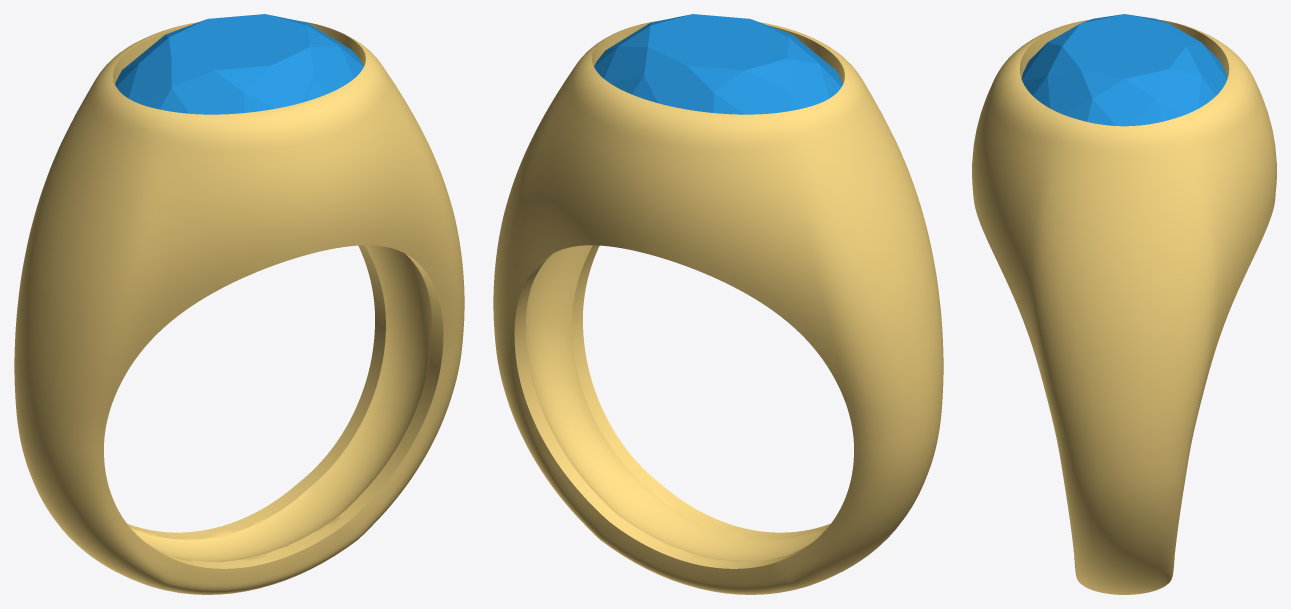
File: Fran signet.glb
3 views of the same model, side by side, from view 1: azimuth 30°, elevation 25°; view 2: azimuth 150°, elevation 25°; view 3: azimuth 270°, elevation 25° (orthographic). The views are drawn at different scales.
Visible parts, largest first — view 1: Fran YG for 3d model, Fran sapph for 3d model; view 2: Fran YG for 3d model, Fran sapph for 3d model; view 3: Fran YG for 3d model, Fran sapph for 3d model.
Part boxes in pixels (x1,y1,x2,y2): Fran YG for 3d model: (14,21,464,594); Fran sapph for 3d model: (115,14,363,114); Fran YG for 3d model: (493,21,943,594); Fran sapph for 3d model: (594,14,842,114); Fran YG for 3d model: (972,19,1276,594); Fran sapph for 3d model: (1021,14,1227,126).
Bounding box in the file's own units: 22.07 × 26.81 × 14.08.
